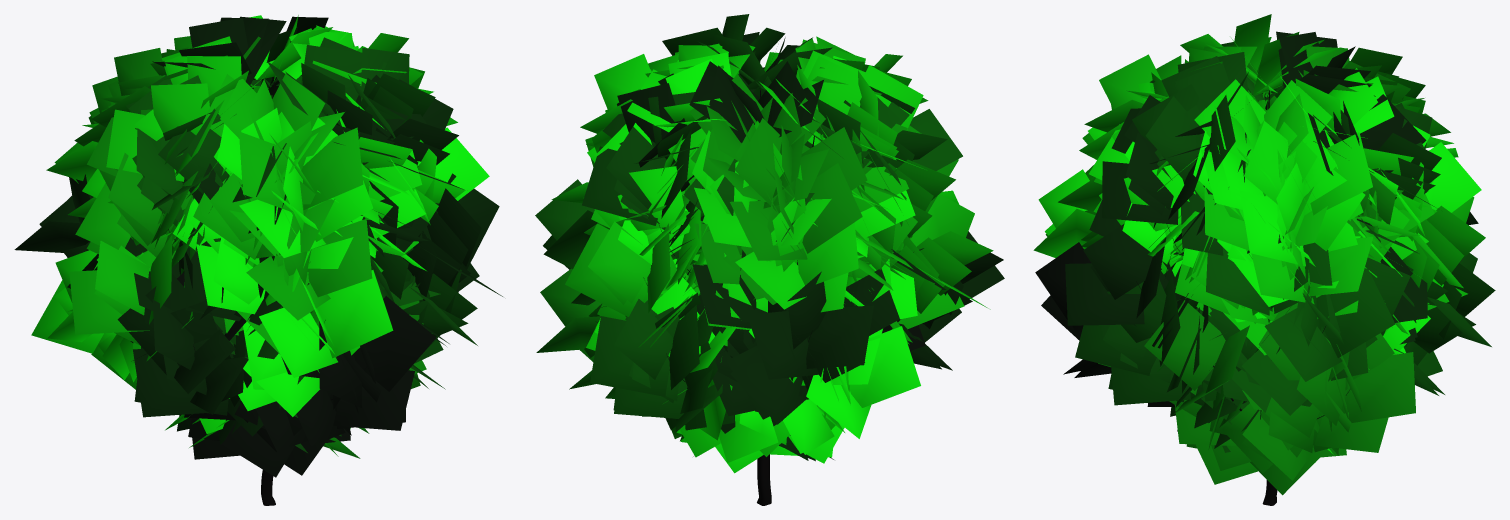
The model's file is Maple_14.fbx.
3 renders of one model, left to right at view 1: azimuth 30°, elevation 25°; view 2: azimuth 150°, elevation 25°; view 3: azimuth 270°, elevation 25°, orthographic. The views are drawn at different scales.
Visible parts, largest first — view 1: Maple_14; view 2: Maple_14; view 3: Maple_14.
Boxes of the visible parts, x1,y1,x2,y2 form: Maple_14: (14, 15, 502, 505); Maple_14: (535, 14, 1004, 505); Maple_14: (1033, 14, 1495, 505).
Size of the model in its own units: 588 by 616 by 572.
